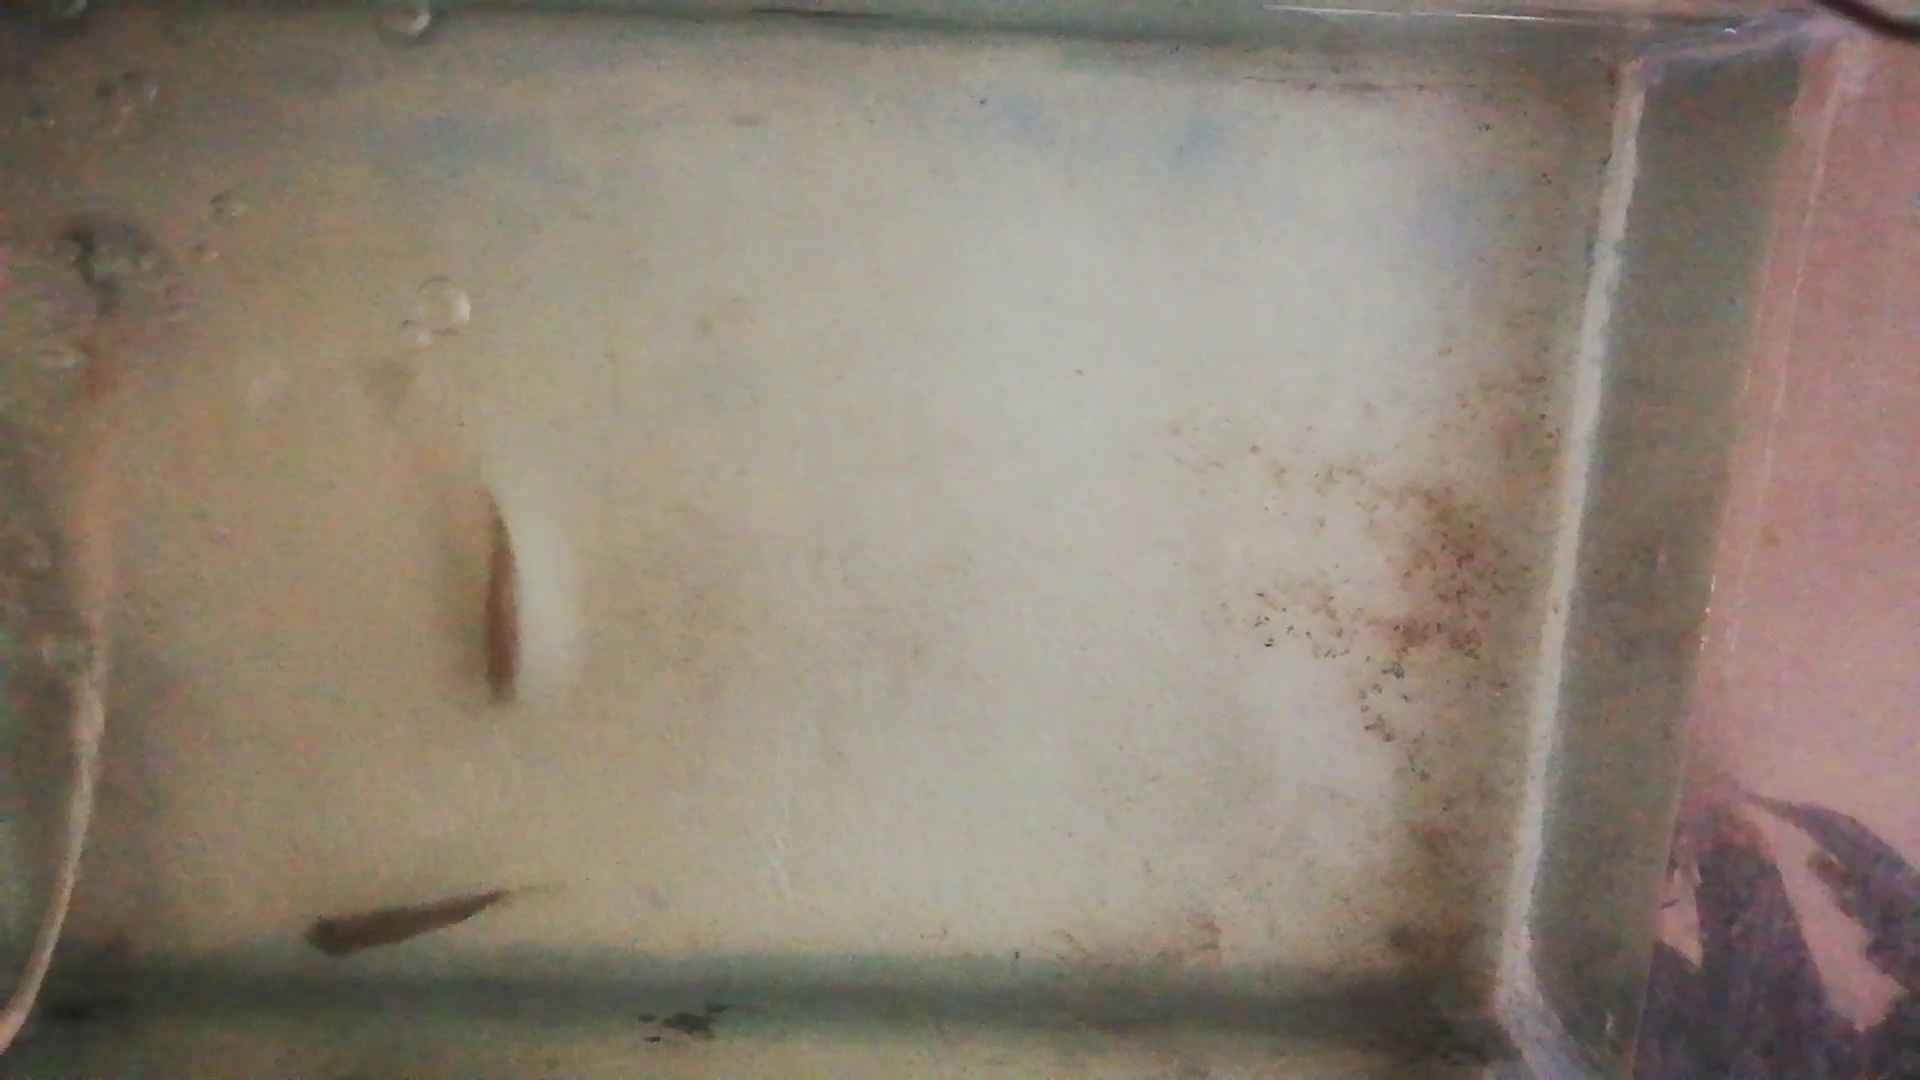fish: (305, 891, 509, 956), (477, 509, 527, 709)
